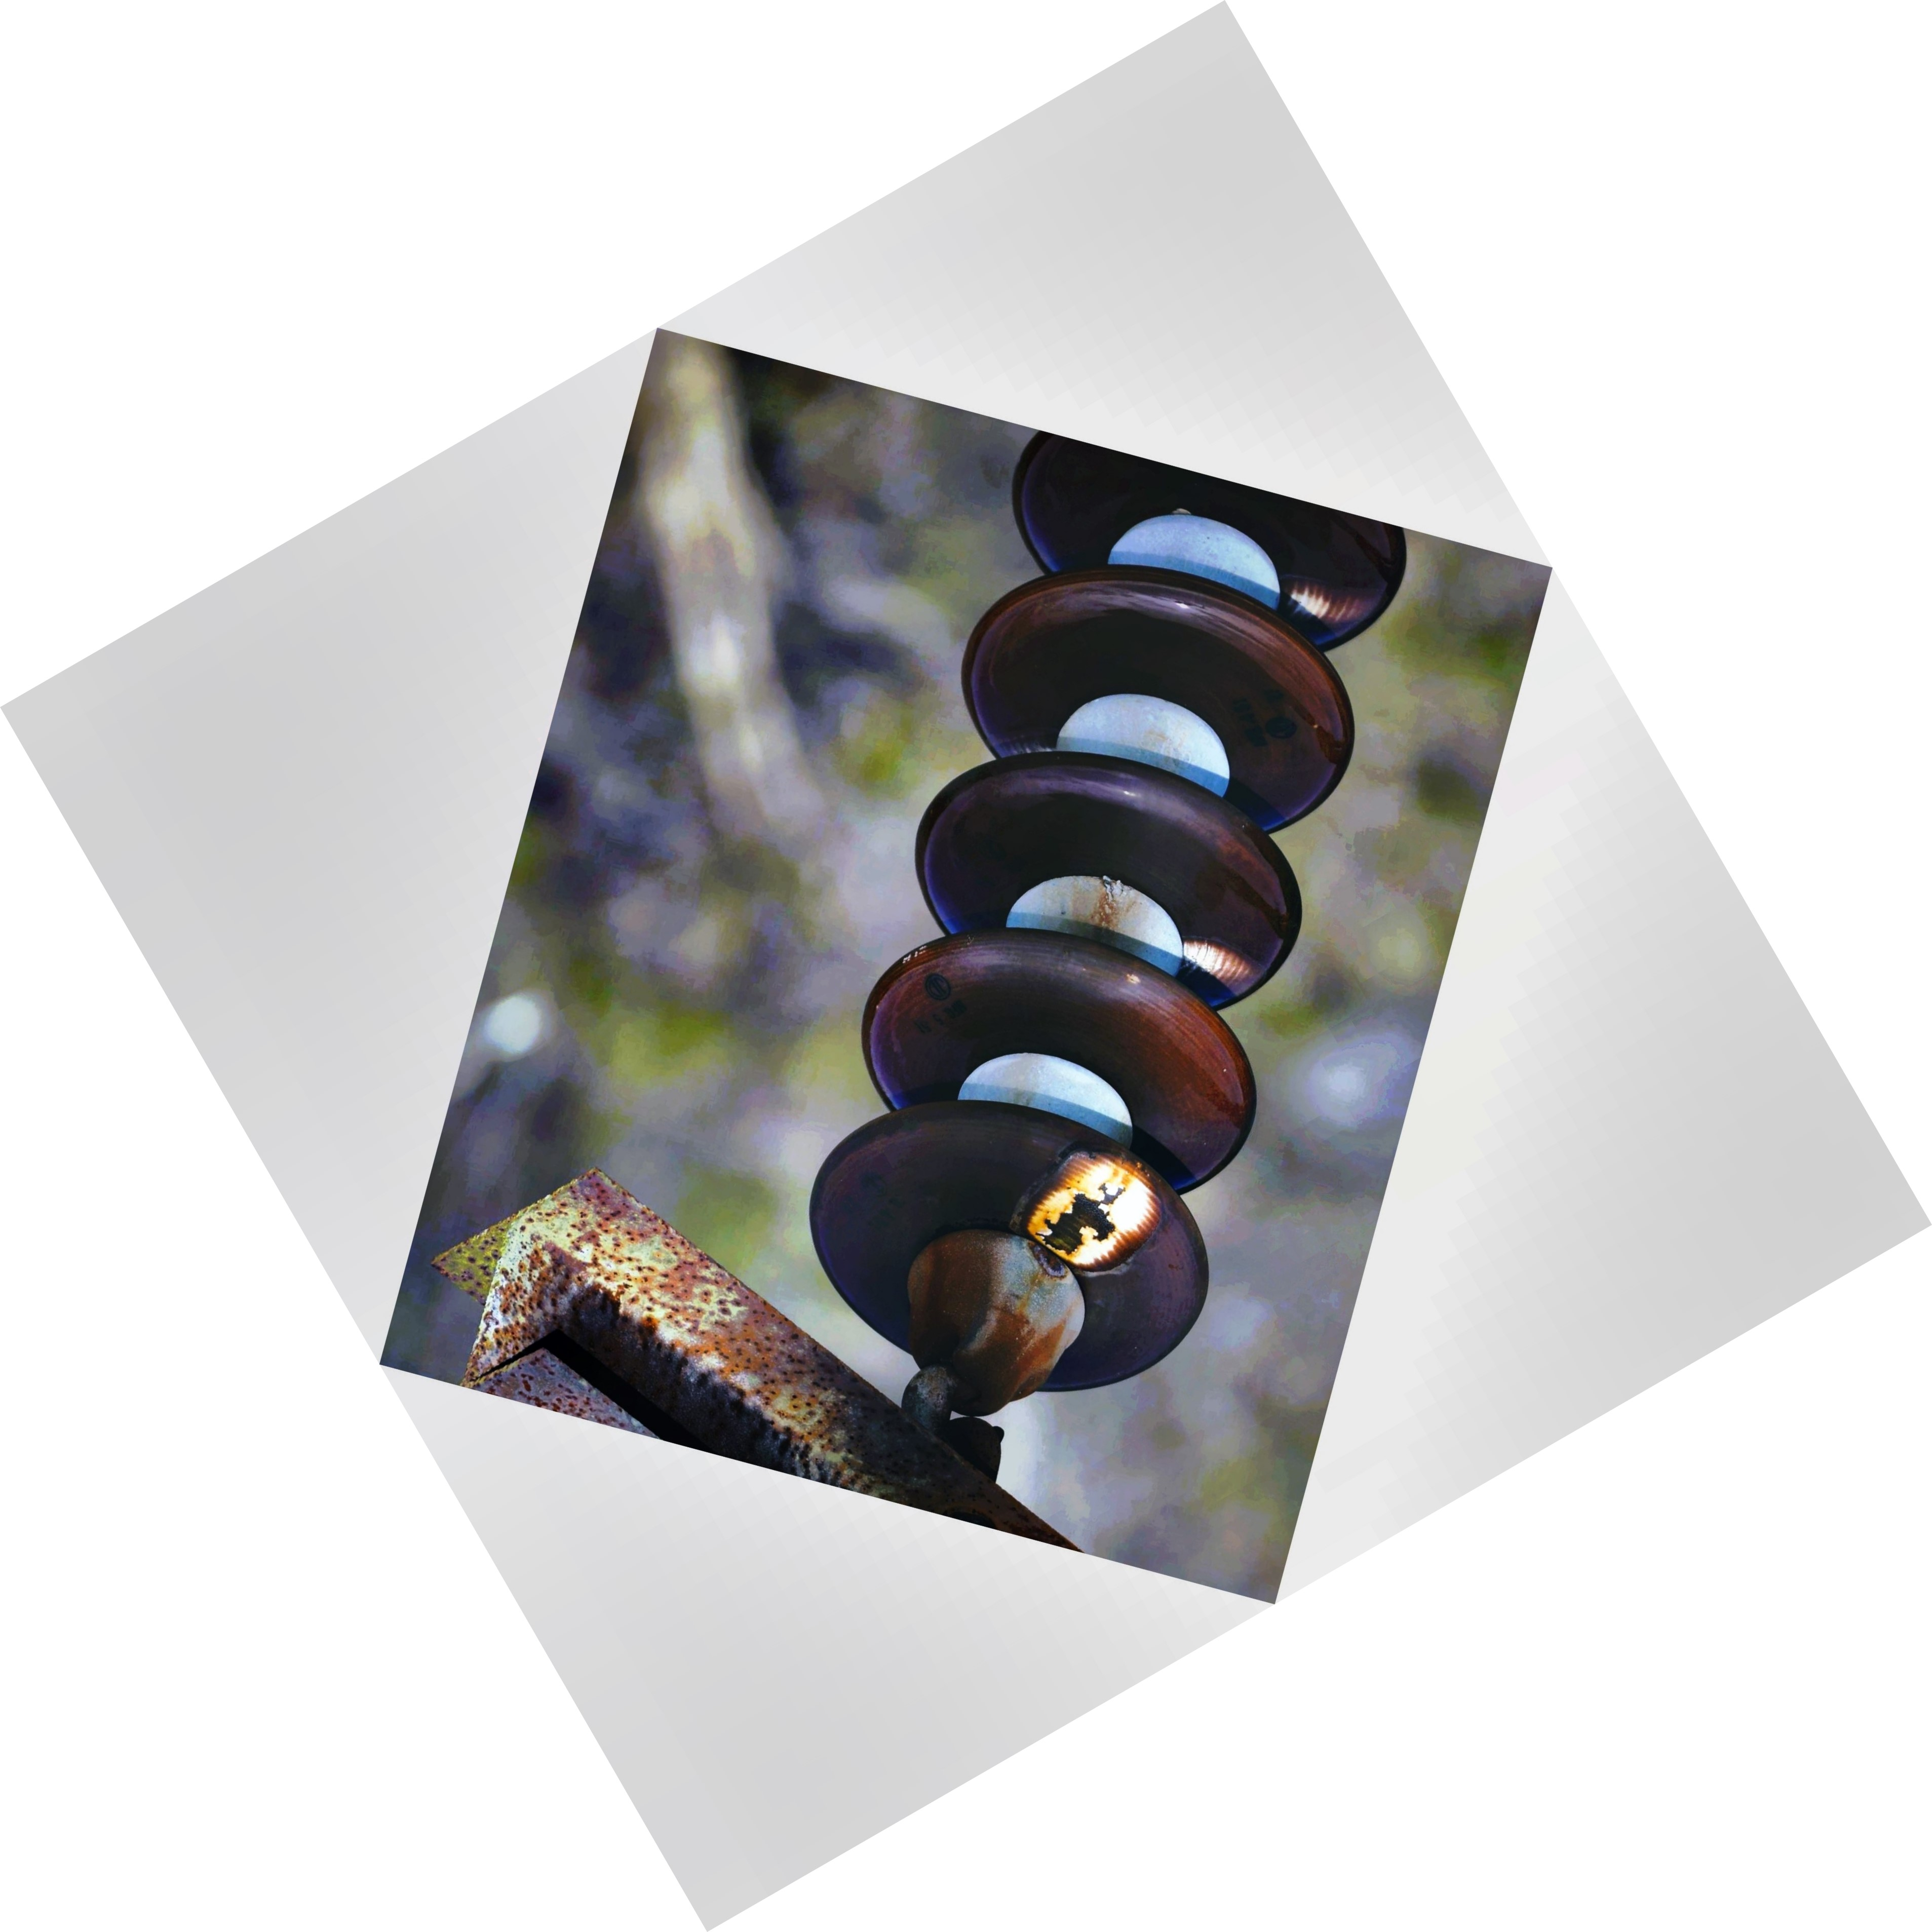Insulator flashover: (796, 1074, 1226, 1437)
